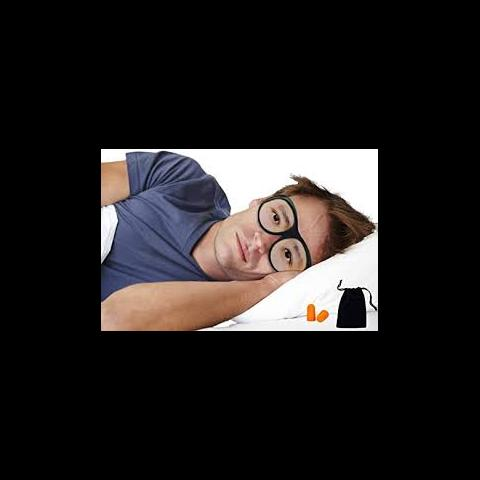opened: (258, 198, 312, 272)
